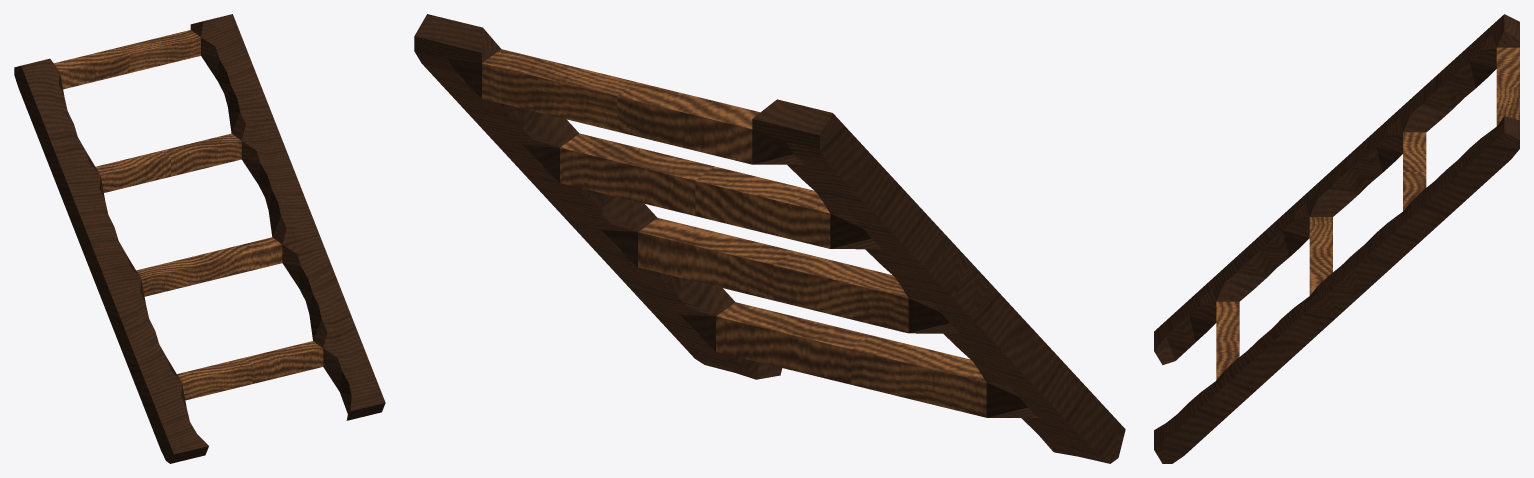
Rendered from ladder.glb.
The picture shows the model from 3 angles, left to right: view 1: azimuth 30°, elevation 25°; view 2: azimuth 150°, elevation 25°; view 3: azimuth 270°, elevation 25°; orthographic projection. The views are drawn at different scales.
Parts seen in each view (by area): view 1: crypt_ladder; view 2: crypt_ladder; view 3: crypt_ladder.
Boxes of the visible parts, left/top/right/bottom form: crypt_ladder: left=14, top=14, right=385, bottom=463; crypt_ladder: left=414, top=14, right=1125, bottom=463; crypt_ladder: left=1154, top=14, right=1519, bottom=463.
Size of the model in its own units: 0.75 by 0.9789 by 0.9788.
1 material, 1 textured.
